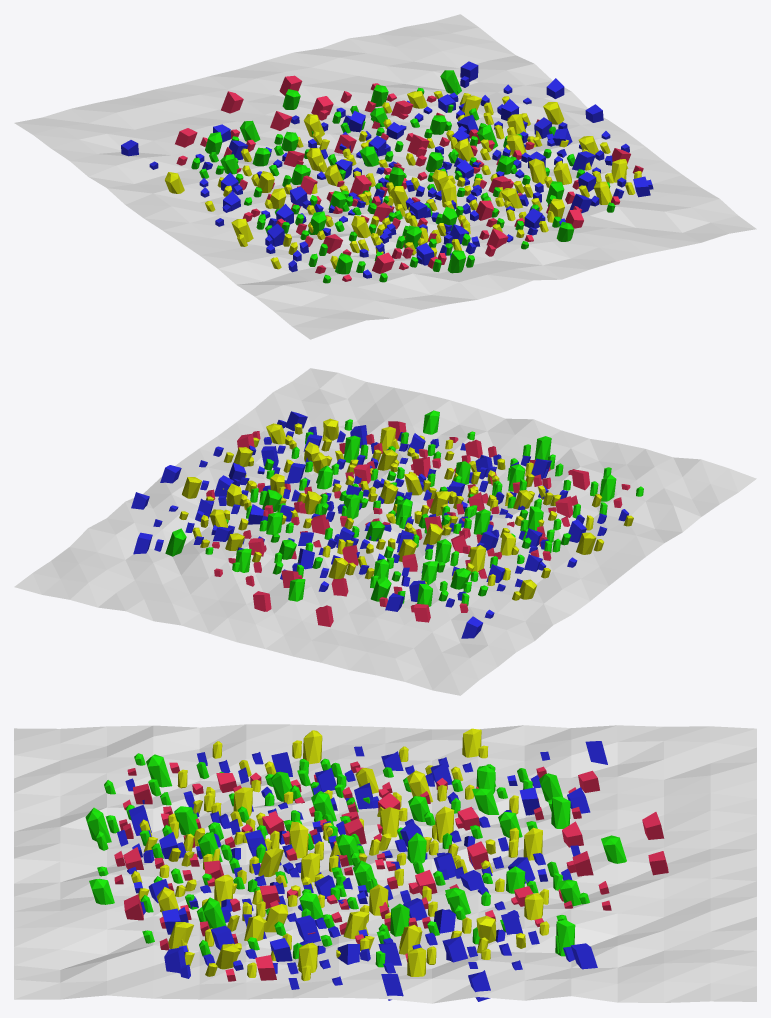
The model's file is chao (1).fbx.
3 renders of one model, top to bottom at view 1: azimuth 30°, elevation 25°; view 2: azimuth 150°, elevation 25°; view 3: azimuth 270°, elevation 25°, orthographic. The views are drawn at different scales.
Visible parts, largest first — view 1: Plane.004; view 2: Plane.004; view 3: Plane.004, Icosphere.019, Icosphere.030, Icosphere.031, Icosphere.015, Icosphere.024, Icosphere.022, Icosphere.006, Icosphere.014, Icosphere.034, Icosphere.023, Icosphere.033 (+16 smaller).
Boxes of the visible parts, x1,y1,x2,y2 form: Plane.004: (14, 14, 756, 339); Plane.004: (14, 368, 756, 695); Plane.004: (14, 724, 756, 1003); Icosphere.019: (551, 796, 570, 828); Icosphere.030: (289, 821, 308, 858); Icosphere.031: (303, 730, 322, 764); Icosphere.015: (146, 754, 172, 787); Icosphere.024: (407, 947, 426, 976); Icosphere.022: (390, 903, 409, 936); Icosphere.006: (601, 835, 626, 863); Icosphere.014: (85, 807, 111, 842); Icosphere.034: (523, 827, 542, 860); Icosphere.023: (556, 920, 575, 956); Icosphere.033: (435, 806, 454, 842).
Size of the model in its own units: 83805 by 5381 by 96340.
